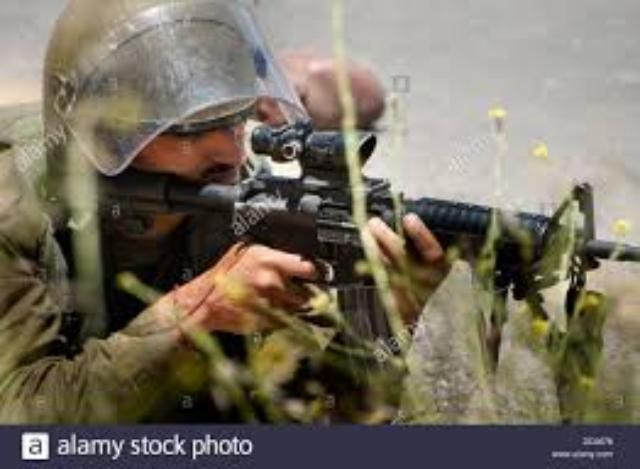other: (0, 0, 322, 421)
